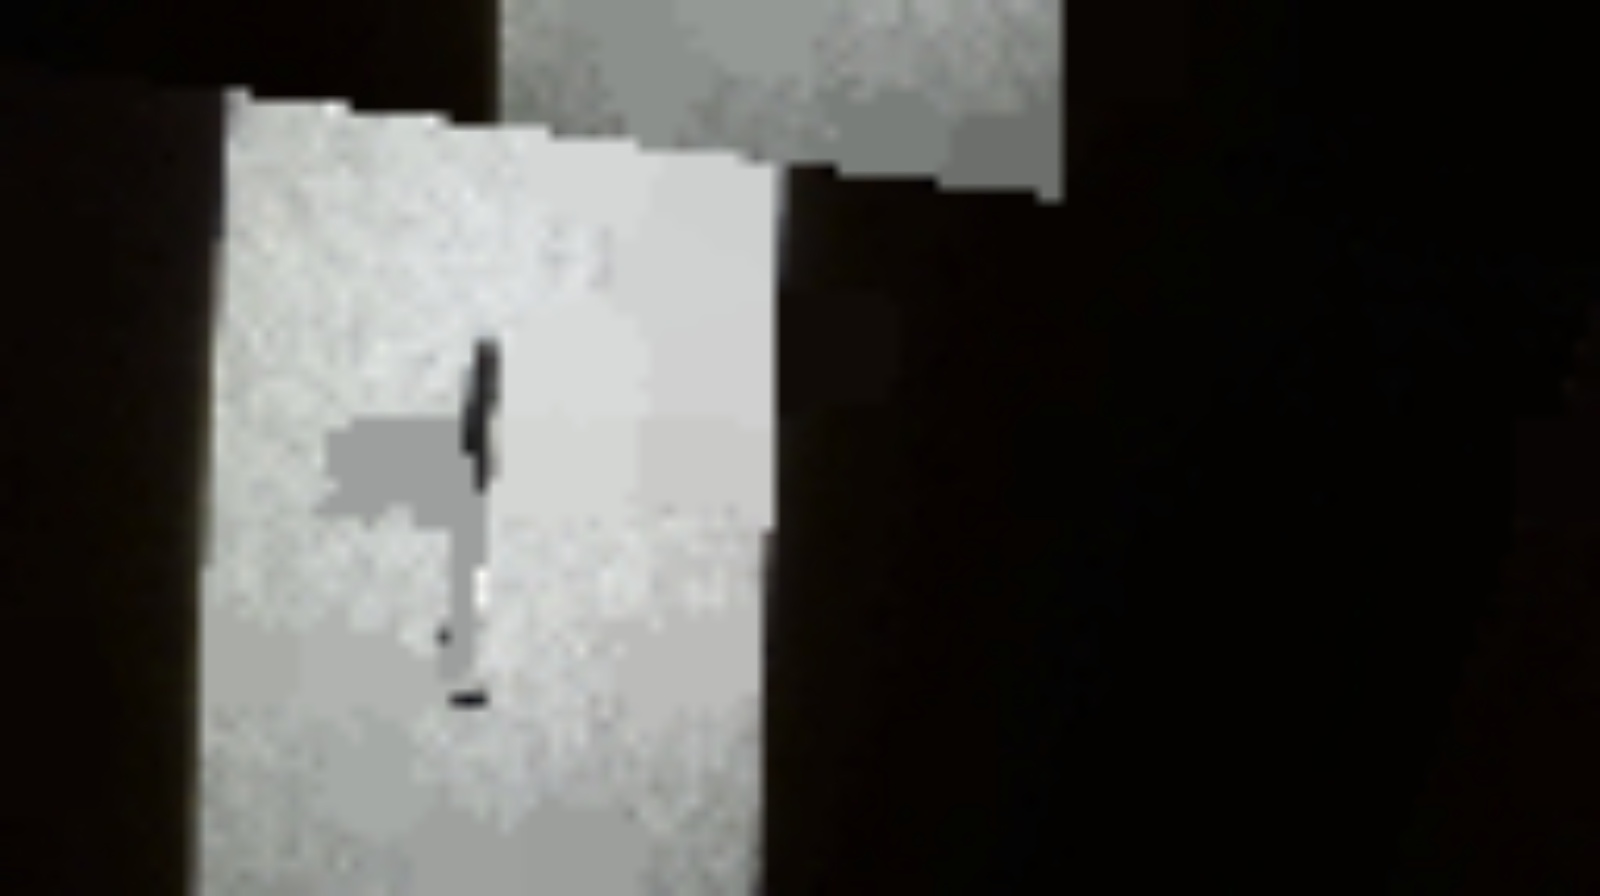S002: (310, 316, 635, 726)
